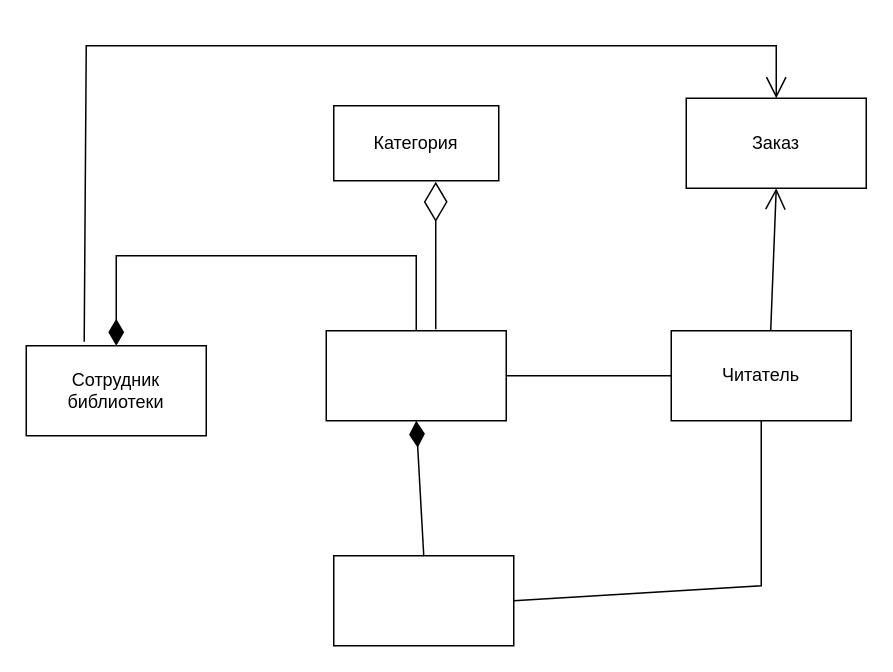
Some shapes in this 893 by 672 pixel diagram are drawn without their labels. Here are the shapes that lost their labels. From the top down, the centre of each, then its label:
point (415, 375): Книга
point (423, 600): Экземпляр книги
